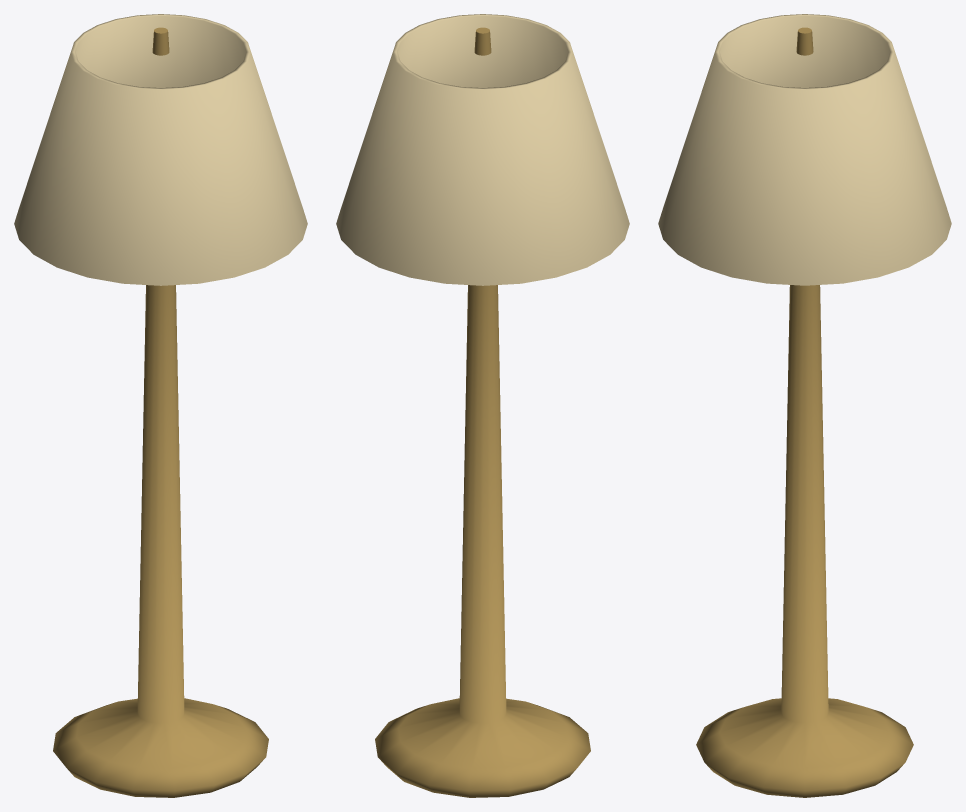
File: rpg-mansion-floor-lamp-01.glb
The picture shows the model from 3 angles, left to right: view 1: azimuth 30°, elevation 25°; view 2: azimuth 150°, elevation 25°; view 3: azimuth 270°, elevation 25°; orthographic projection.
Parts seen in each view (by area): view 1: rpg-mansion-floor-lamp-01; view 2: rpg-mansion-floor-lamp-01; view 3: rpg-mansion-floor-lamp-01.
Boxes of the visible parts, x1,y1,x2,y2 form: rpg-mansion-floor-lamp-01: (14,14,307,797); rpg-mansion-floor-lamp-01: (336,14,629,797); rpg-mansion-floor-lamp-01: (658,14,951,797).
Bounding box in the file's own units: 0.62 × 1.69 × 0.62.
